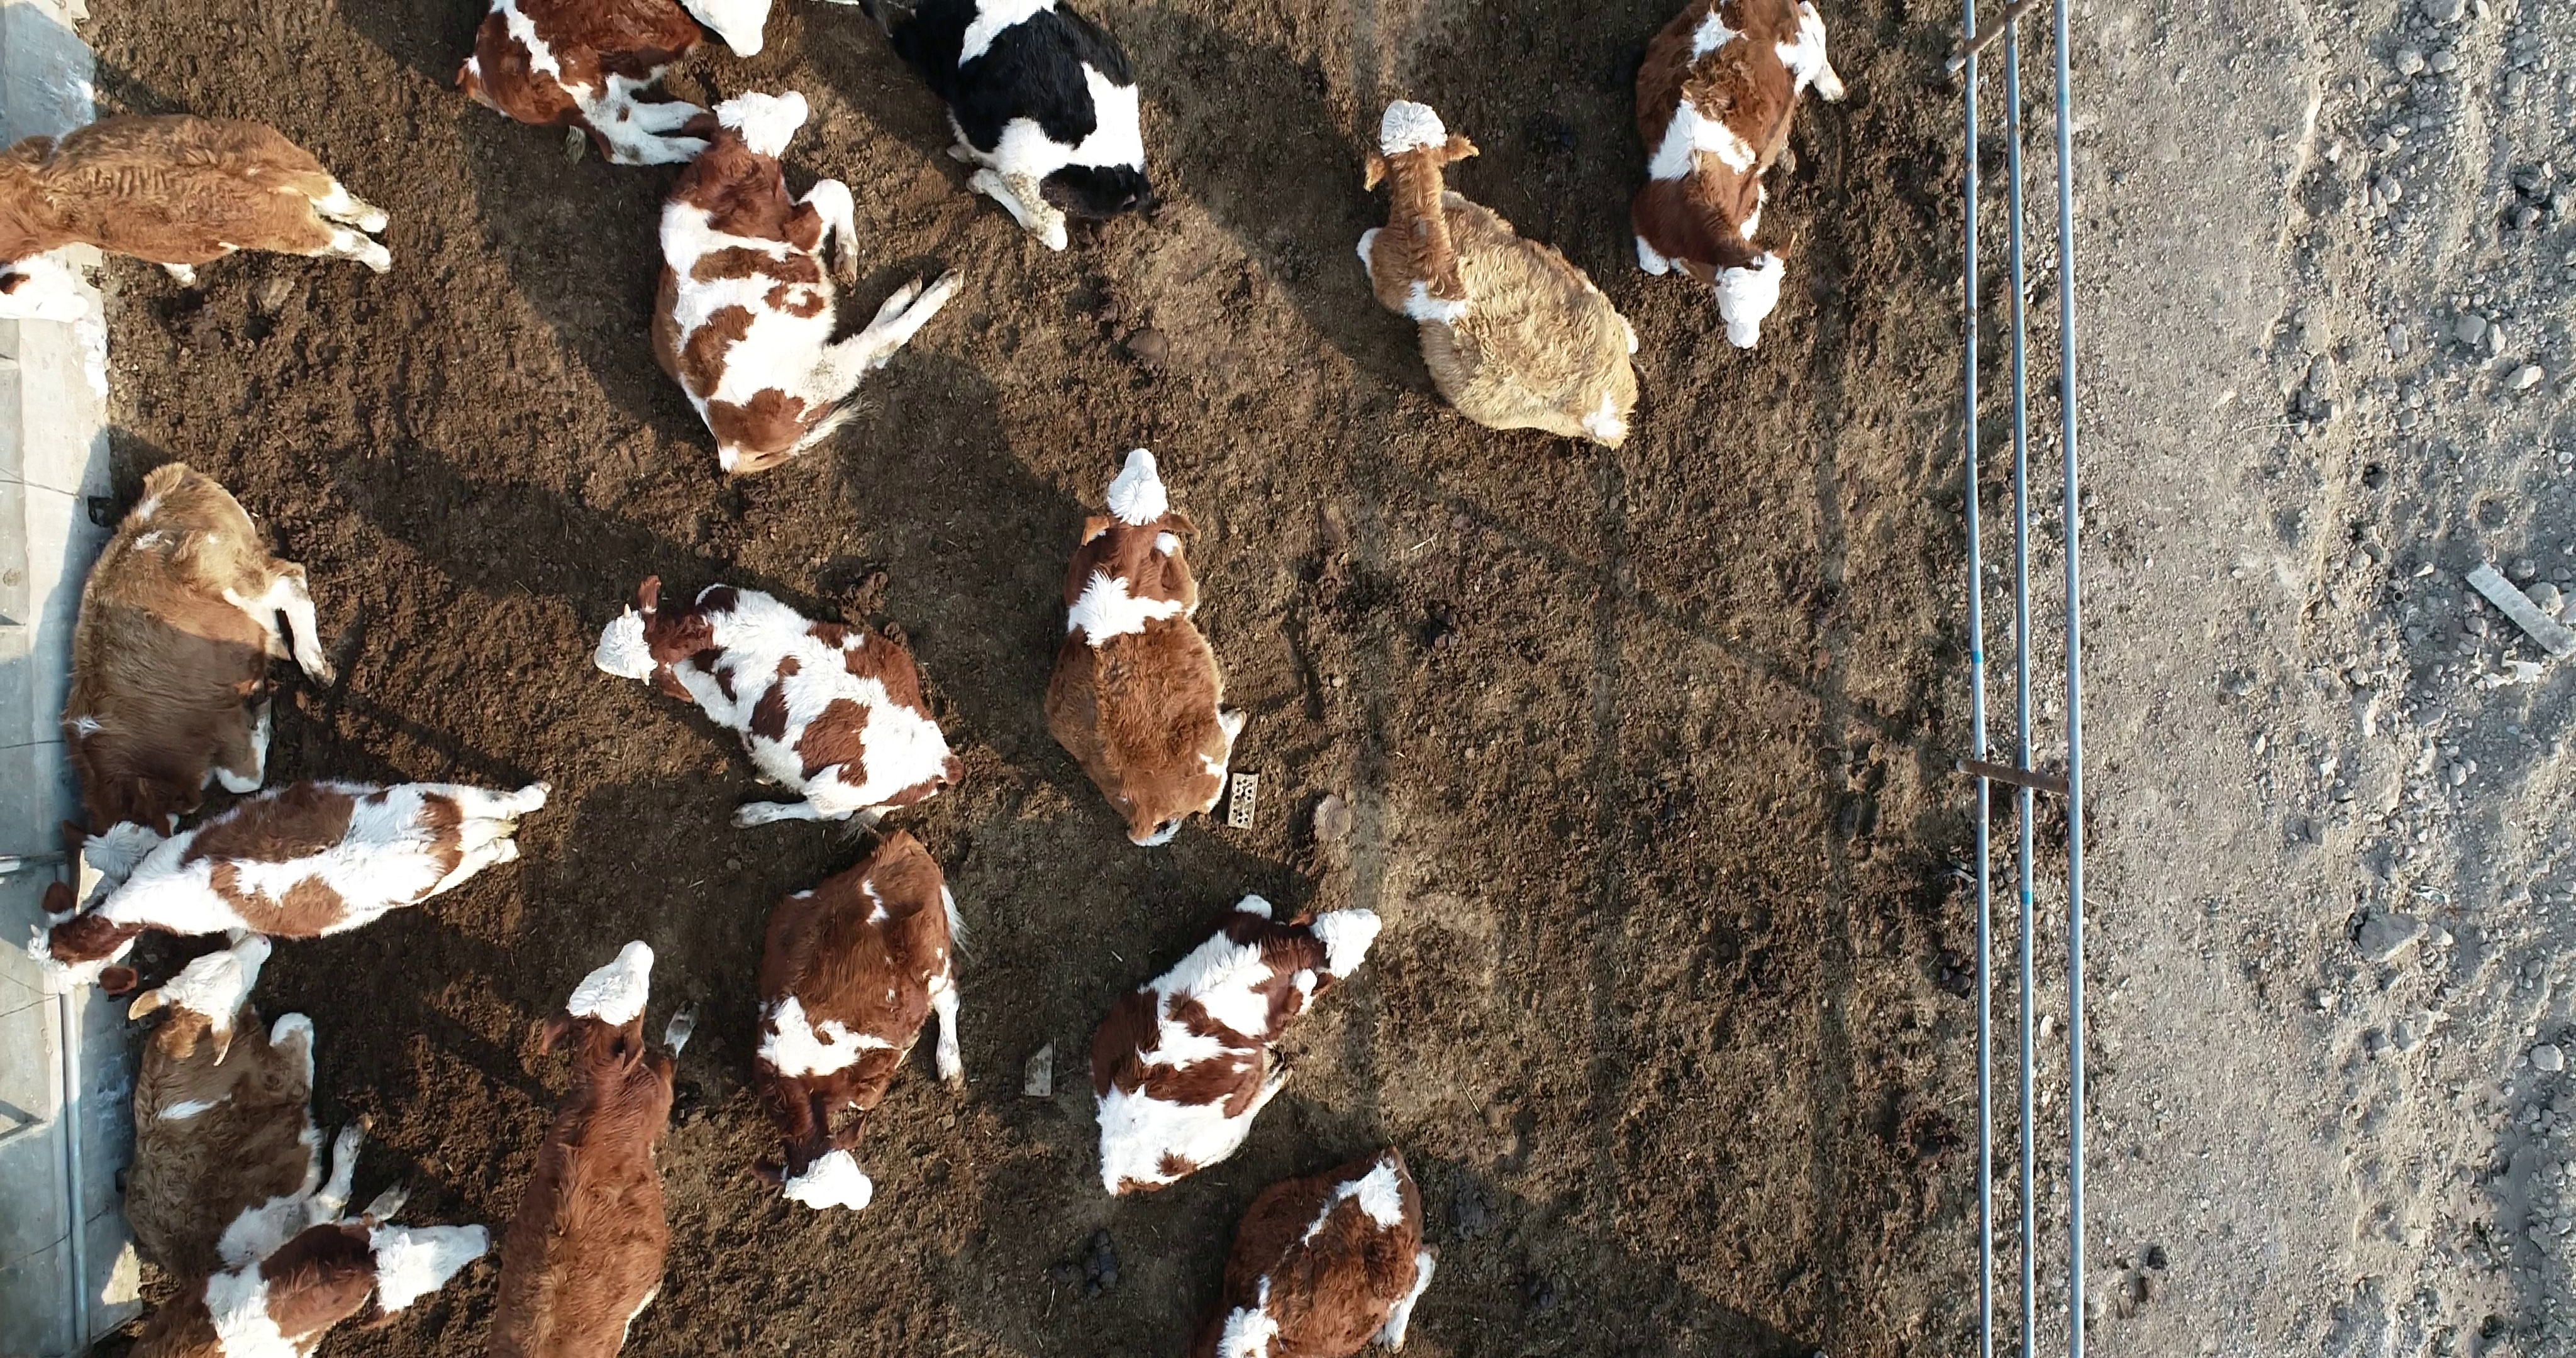cattle: (646, 87, 969, 480), (56, 457, 344, 871), (22, 777, 557, 997), (589, 569, 975, 860), (1351, 95, 1642, 452), (1082, 889, 1387, 1205), (745, 825, 978, 1217), (1039, 446, 1252, 852), (2, 109, 397, 295)
